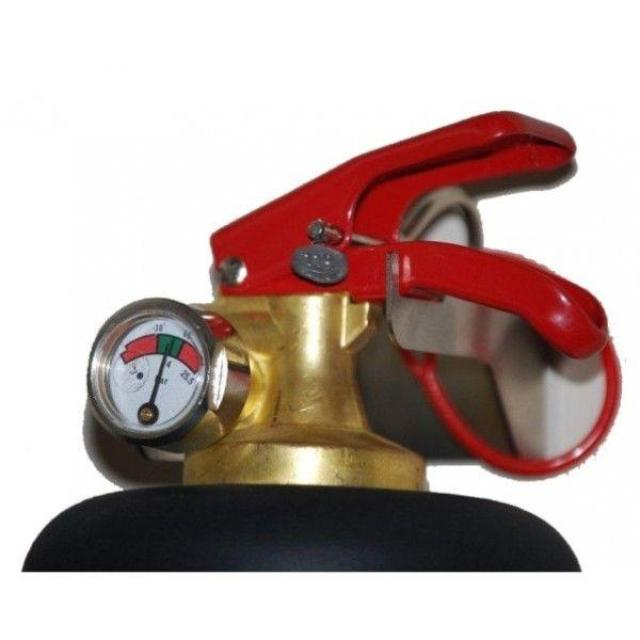fire_extinguisher: (14, 102, 627, 572)
